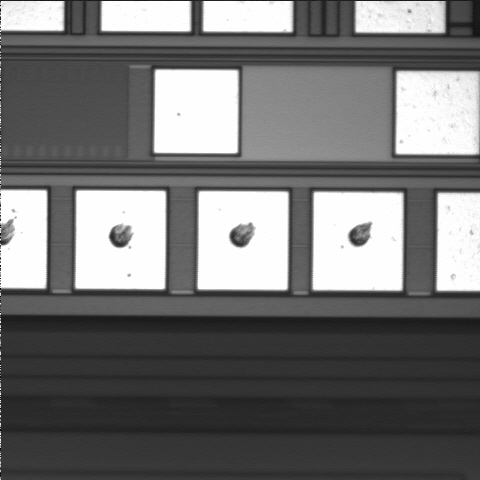pad: (197, 191, 289, 290), (75, 190, 166, 289), (312, 192, 403, 291), (154, 69, 239, 153)
